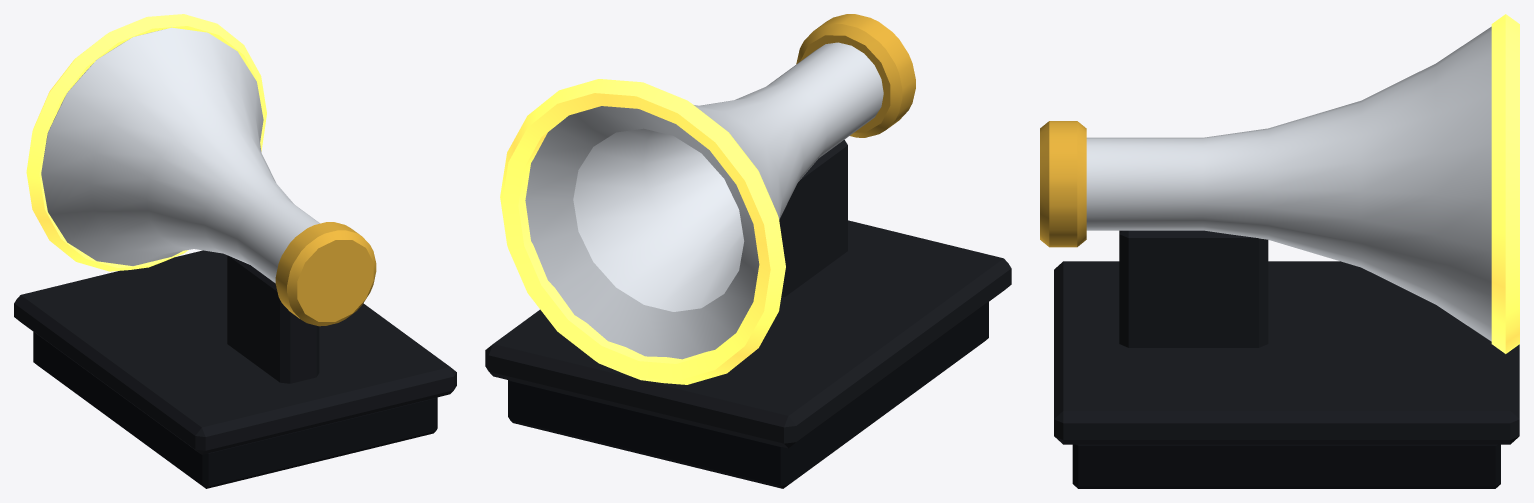
The model's file is horn_ship.glb.
3 renders of one model, left to right at view 1: azimuth 30°, elevation 25°; view 2: azimuth 150°, elevation 25°; view 3: azimuth 270°, elevation 25°, orthographic. The views are drawn at different scales.
Visible parts, largest first — view 1: horn_ship_deco_body, horn_ship_chrome, horn_ship_deco_trim, horn_ship_paint_gold, horn_ship_lamp_amber; view 2: horn_ship_chrome, horn_ship_deco_body, horn_ship_lamp_amber, horn_ship_deco_trim, horn_ship_paint_gold; view 3: horn_ship_deco_body, horn_ship_chrome, horn_ship_deco_trim, horn_ship_lamp_amber, horn_ship_paint_gold.
Part boxes in pixels (<box>): horn_ship_deco_body: <box>14,250,456,454</box>; horn_ship_chrome: <box>41,27,319,283</box>; horn_ship_deco_trim: <box>33,332,437,488</box>; horn_ship_paint_gold: <box>275,222,376,326</box>; horn_ship_lamp_amber: <box>26,14,266,271</box>; horn_ship_chrome: <box>525,42,883,359</box>; horn_ship_deco_body: <box>485,140,1011,448</box>; horn_ship_lamp_amber: <box>500,79,785,384</box>; horn_ship_deco_trim: <box>508,302,988,488</box>; horn_ship_paint_gold: <box>796,14,915,137</box>; horn_ship_deco_body: <box>1054,230,1519,444</box>; horn_ship_chrome: <box>1086,26,1491,341</box>; horn_ship_deco_trim: <box>1072,444,1500,488</box>; horn_ship_lamp_amber: <box>1491,14,1519,353</box>; horn_ship_paint_gold: <box>1040,121,1086,247</box>.
Size of the model in its own units: 0.4 by 0.464 by 0.5152.
